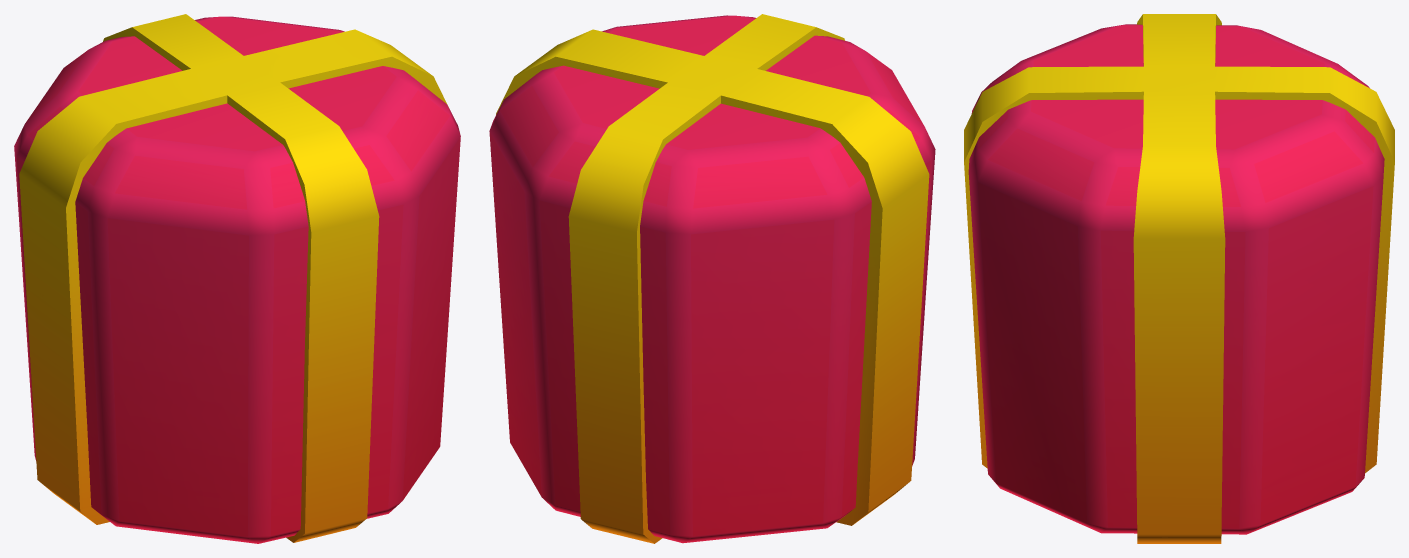
Rendered from giftbox_035.fbx.
3 renders of one model, left to right at view 1: azimuth 30°, elevation 25°; view 2: azimuth 150°, elevation 25°; view 3: azimuth 270°, elevation 25°, orthographic.
Visible parts, largest first — view 1: giftbox_035; view 2: giftbox_035; view 3: giftbox_035.
Part boxes in pixels (<box>): giftbox_035: <box>14,14,460,543</box>; giftbox_035: <box>489,14,935,543</box>; giftbox_035: <box>964,14,1394,543</box>.
Bounding box in the file's own units: 236 × 232 × 231.
